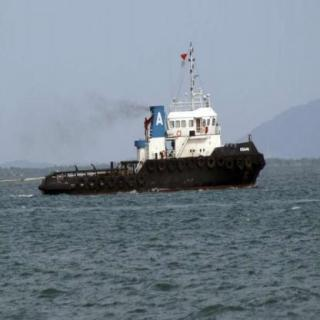Tug Boat: (40, 46, 267, 194)
